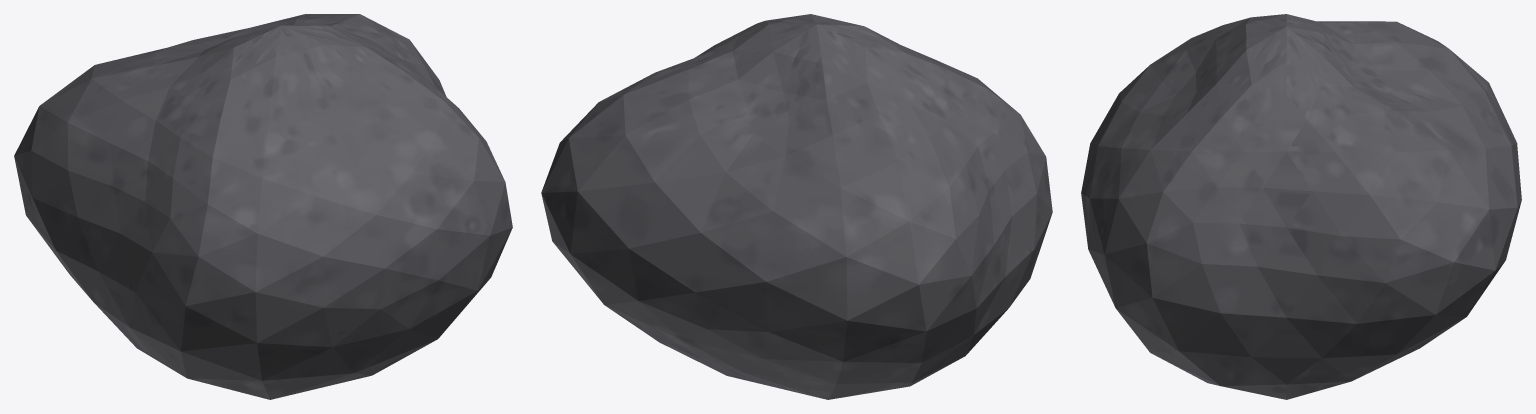
File: darkasteroid.glb
3 renders of one model, left to right at view 1: azimuth 30°, elevation 25°; view 2: azimuth 150°, elevation 25°; view 3: azimuth 270°, elevation 25°, orthographic. The views are drawn at different scales.
Parts seen in each view (by area): view 1: glint-asteroid; view 2: glint-asteroid; view 3: glint-asteroid.
Part boxes in pixels (bbox=[...]): glint-asteroid: bbox=[14, 14, 512, 399]; glint-asteroid: bbox=[541, 14, 1052, 399]; glint-asteroid: bbox=[1081, 14, 1521, 399].
Bounding box in the file's own units: 2.26 × 1.9 × 2.17.
1 material, 1 textured.
